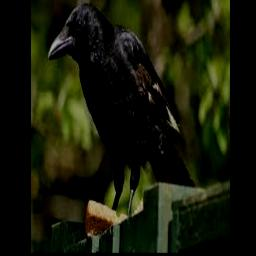Crow: (47, 2, 198, 222)
